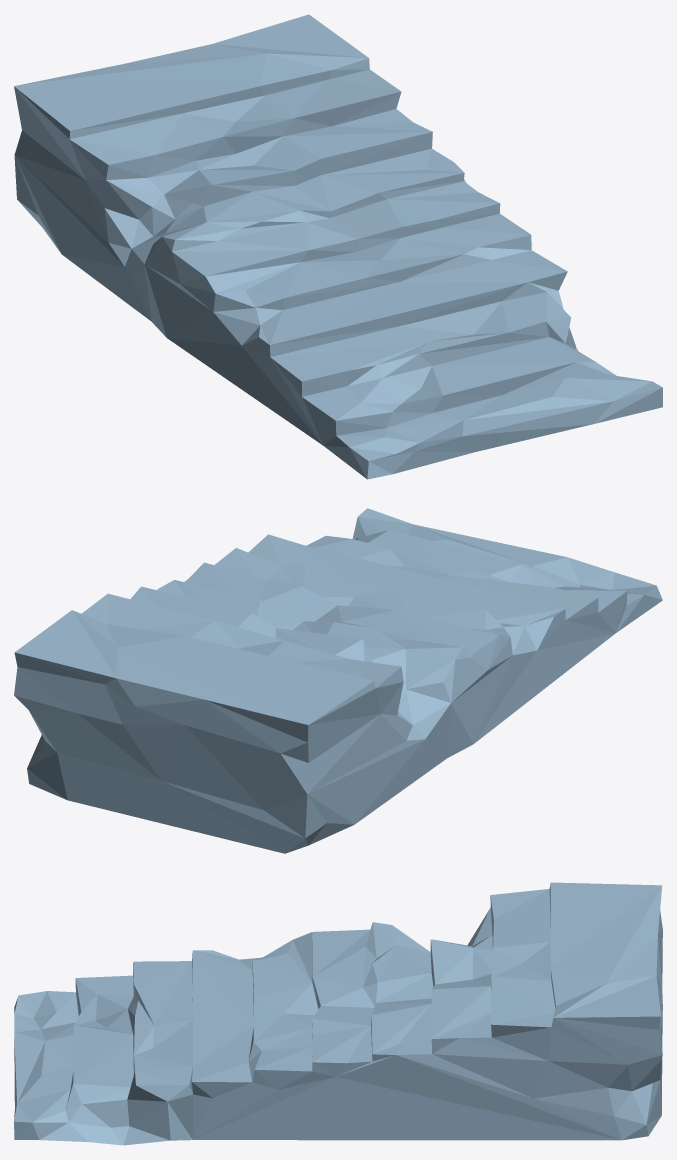
The model's file is Stairs_01.fbx.
3 renders of one model, top to bottom at view 1: azimuth 30°, elevation 25°; view 2: azimuth 150°, elevation 25°; view 3: azimuth 270°, elevation 25°, orthographic. The views are drawn at different scales.
Parts seen in each view (by area): view 1: Stairs; view 2: Stairs; view 3: Stairs.
Part boxes in pixels (left/top/right/bottom): Stairs: left=14, top=14, right=662, bottom=479; Stairs: left=14, top=508, right=662, bottom=853; Stairs: left=14, top=882, right=662, bottom=1145.
Size of the model in its own units: 593 by 273 by 1201.
